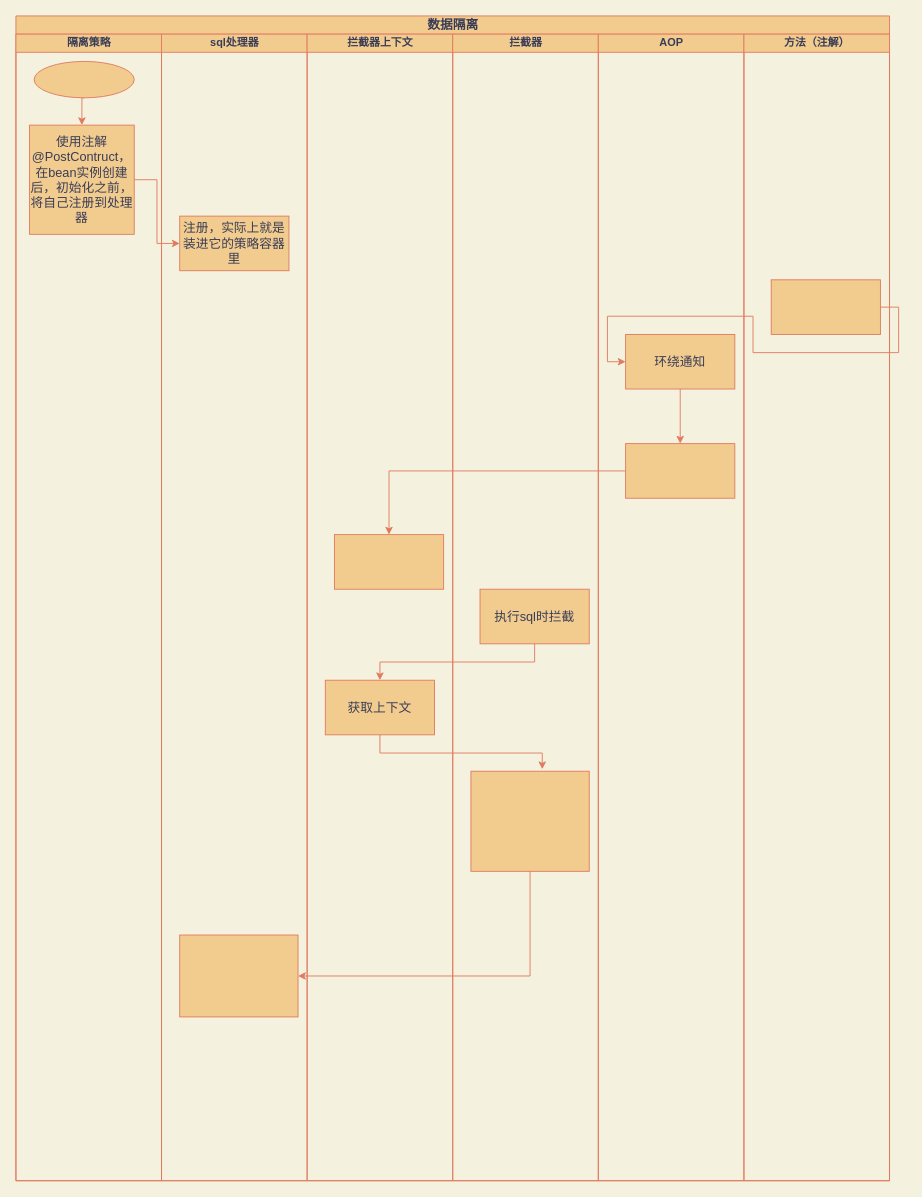
Some shapes in this 922 by 1197 pixel diagram are drawn without their labels. Here are the shapes that lost their labels. From the top down, the centre of each, then its label:
(x=83, y=79): 策略A
(x=825, y=306): 方法使用了@Isolate注解
(x=680, y=470): 方法执行前，设置上下文
(x=389, y=561): 设置上下文
(x=529, y=820): 分析sql，从拿到的上下文中，找到需要隔离的表，以及每张表对应的隔离策略。判断表名是否是指定要隔离的表
(x=238, y=975): 执行sql处理：拿到隔离策略名称，从容器中获取到隔离策略。根据隔离策略，进行sql处理
